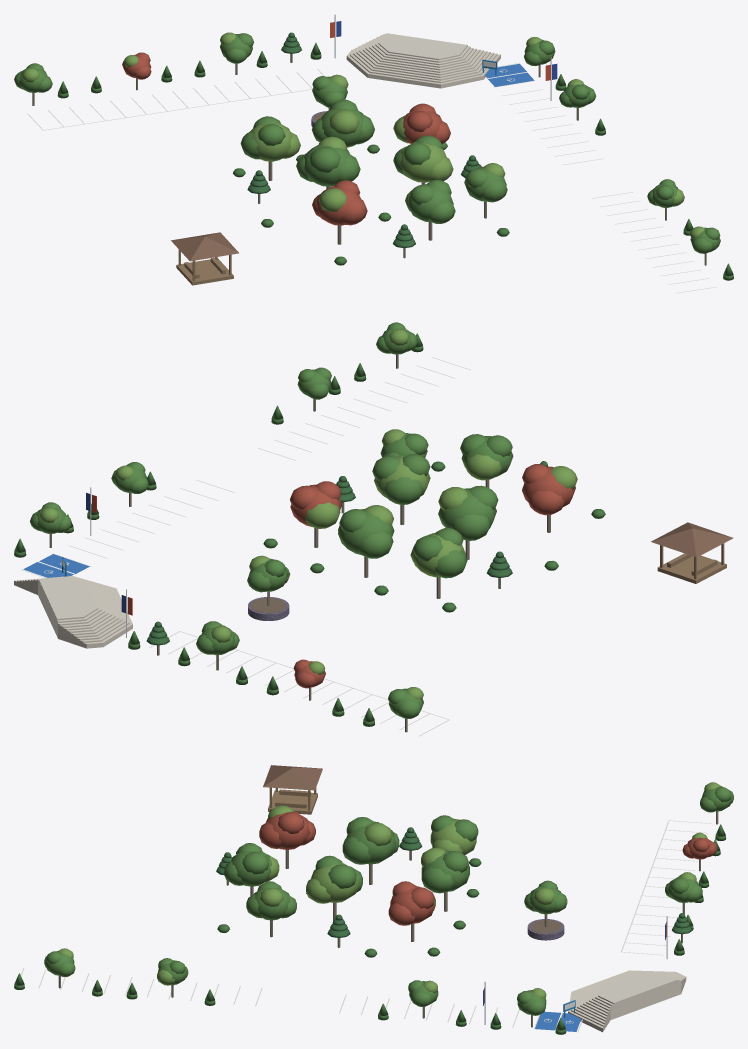
3 renders of one model, top to bottom at view 1: azimuth 30°, elevation 25°; view 2: azimuth 150°, elevation 25°; view 3: azimuth 270°, elevation 25°, orthographic. The views are drawn at different scales.
Visible parts, largest first — view 1: jiphyeon-garden__leaf, jiphyeon-garden__leaf-light, jiphyeon-garden__stair-tread, jiphyeon-garden__leaf-red, jiphyeon-garden__boxwood, jiphyeon-garden__mark-white, jiphyeon-garden__stair-landing, jiphyeon-garden__pav-roof, jiphyeon-garden__pine, jiphyeon-garden__pav-wood, jiphyeon-garden__mark-blue, jiphyeon-garden__trunk; view 2: jiphyeon-garden__leaf, jiphyeon-garden__leaf-light, jiphyeon-garden__leaf-red, jiphyeon-garden__stair-tread, jiphyeon-garden__boxwood, jiphyeon-garden__mark-white, jiphyeon-garden__stair-landing, jiphyeon-garden__pav-roof, jiphyeon-garden__pav-wood, jiphyeon-garden__pine, jiphyeon-garden__trunk, jiphyeon-garden__mark-blue; view 3: jiphyeon-garden__leaf, jiphyeon-garden__leaf-light, jiphyeon-garden__leaf-red, jiphyeon-garden__stair-tread, jiphyeon-garden__boxwood, jiphyeon-garden__mark-white, jiphyeon-garden__stair-landing, jiphyeon-garden__pav-roof, jiphyeon-garden__pine, jiphyeon-garden__pav-wood, jiphyeon-garden__trunk, jiphyeon-garden__mark-blue.
Part boxes in pixels (x1,y1,x2,y2): jiphyeon-garden__leaf: (14, 33, 720, 253); jiphyeon-garden__leaf-light: (22, 32, 704, 238); jiphyeon-garden__stair-tread: (346, 34, 500, 88); jiphyeon-garden__leaf-red: (122, 52, 450, 225); jiphyeon-garden__boxwood: (57, 43, 733, 280); jiphyeon-garden__mark-white: (27, 63, 716, 293); jiphyeon-garden__stair-landing: (378, 33, 467, 60); jiphyeon-garden__pav-roof: (171, 232, 238, 261); jiphyeon-garden__pine: (247, 32, 480, 248); jiphyeon-garden__pav-wood: (176, 249, 233, 285); jiphyeon-garden__mark-blue: (485, 63, 534, 86); jiphyeon-garden__trunk: (32, 54, 706, 265); jiphyeon-garden__leaf: (30, 322, 513, 718); jiphyeon-garden__leaf-light: (40, 329, 577, 700); jiphyeon-garden__leaf-red: (290, 464, 575, 688); jiphyeon-garden__stair-tread: (14, 576, 132, 648); jiphyeon-garden__boxwood: (14, 333, 605, 726); jiphyeon-garden__mark-white: (21, 357, 470, 736); jiphyeon-garden__stair-landing: (39, 577, 98, 620); jiphyeon-garden__pav-roof: (651, 522, 733, 557); jiphyeon-garden__pav-wood: (657, 543, 726, 583); jiphyeon-garden__pine: (146, 461, 548, 645); jiphyeon-garden__trunk: (49, 354, 550, 732); jiphyeon-garden__mark-blue: (23, 554, 89, 577); jiphyeon-garden__leaf: (44, 786, 733, 1015); jiphyeon-garden__leaf-light: (58, 782, 720, 998); jiphyeon-garden__leaf-red: (259, 811, 717, 925); jiphyeon-garden__stair-tread: (568, 970, 686, 1032); jiphyeon-garden__boxwood: (14, 824, 726, 1034); jiphyeon-garden__mark-white: (21, 820, 711, 1032); jiphyeon-garden__stair-landing: (598, 971, 677, 1004); jiphyeon-garden__pav-roof: (263, 765, 322, 790); jiphyeon-garden__pine: (216, 827, 692, 937); jiphyeon-garden__pav-wood: (268, 787, 317, 814); jiphyeon-garden__trunk: (58, 811, 718, 1027); jiphyeon-garden__mark-blue: (535, 1011, 580, 1031).
Size of the model in its own units: 64.91 by 8.96 by 81.88.
Materials: 19 (1 with a texture image).
